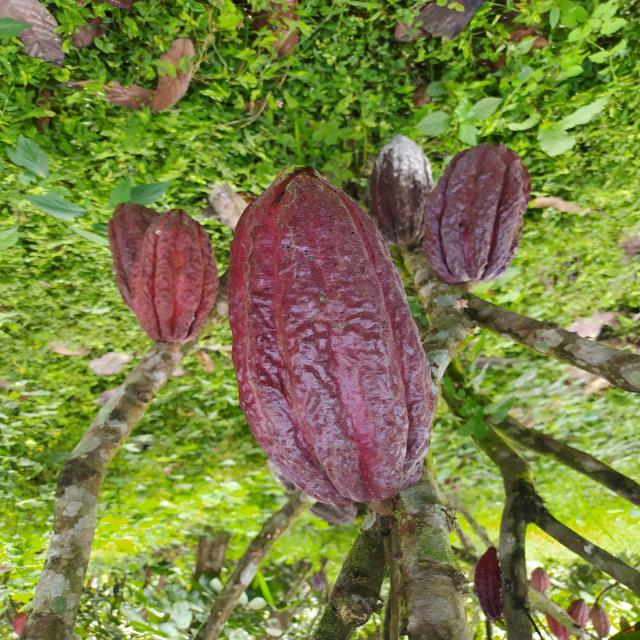Monilia: (372, 132, 434, 246)
Sana: (229, 166, 435, 505), (427, 144, 530, 282), (131, 207, 221, 343), (107, 202, 165, 312), (472, 546, 509, 624), (545, 608, 570, 640), (590, 603, 610, 638), (567, 597, 589, 627), (532, 567, 550, 593)
